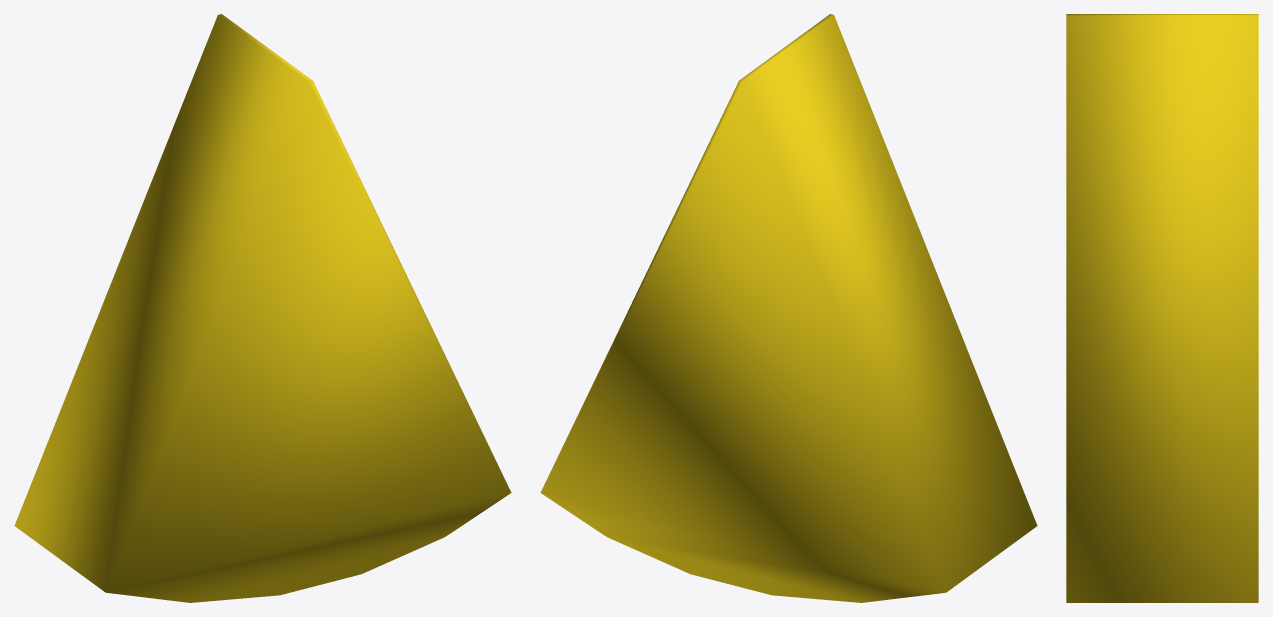
Rendered from Cheese.fbx.
3 renders of one model, left to right at view 1: azimuth 30°, elevation 25°; view 2: azimuth 150°, elevation 25°; view 3: azimuth 270°, elevation 25°, orthographic. The views are drawn at different scales.
Visible parts, largest first — view 1: Cheese; view 2: Cheese; view 3: Cheese.
Boxes of the visible parts, x1=… form: Cheese: x1=14, y1=14, x2=511, y2=602; Cheese: x1=540, y1=14, x2=1037, y2=602; Cheese: x1=1066, y1=14, x2=1258, y2=602.
Bounding box in the file's own units: 280 × 334 × 109.
